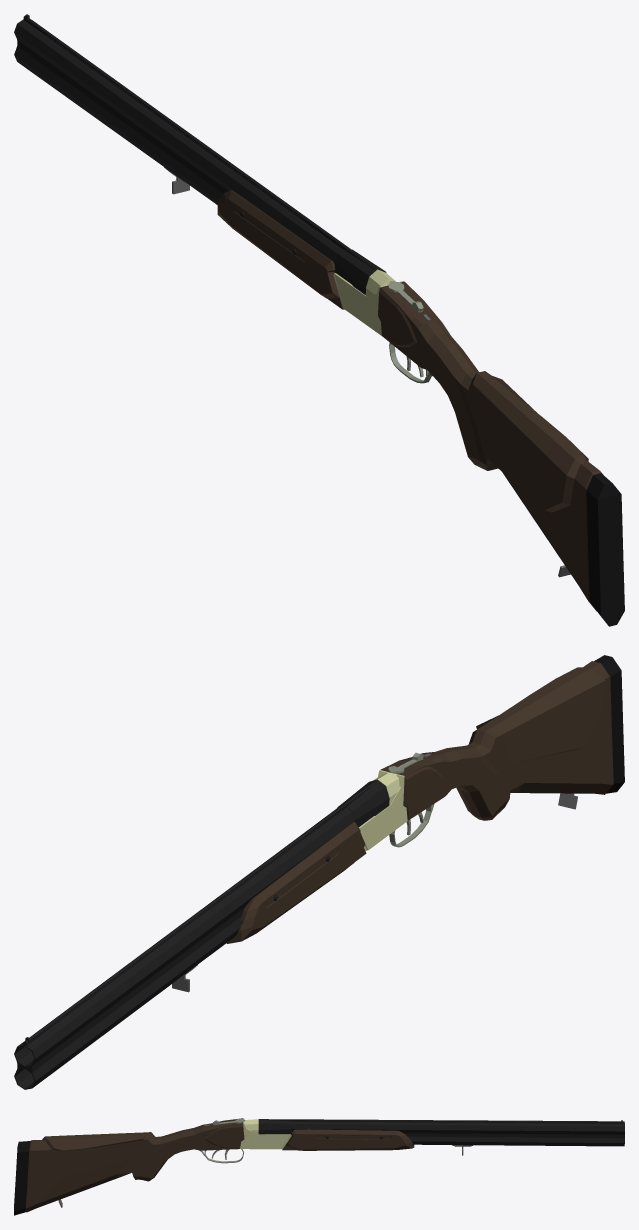
Rendered from bk_toz34.glb.
The picture shows the model from 3 angles, top to bottom: view 1: azimuth 30°, elevation 25°; view 2: azimuth 150°, elevation 25°; view 3: azimuth 270°, elevation 25°; orthographic projection. The views are drawn at different scales.
Parts seen in each view (by area): view 1: Cube.005_0; view 2: Cube.005_0; view 3: Cube.005_0.
Part boxes in pixels (x1,y1,x2,y2): Cube.005_0: (14, 14, 624, 626); Cube.005_0: (14, 655, 624, 1089); Cube.005_0: (14, 1118, 624, 1215).
Bounding box in the file's own units: 0.0418 × 0.1971 × 1.14.
